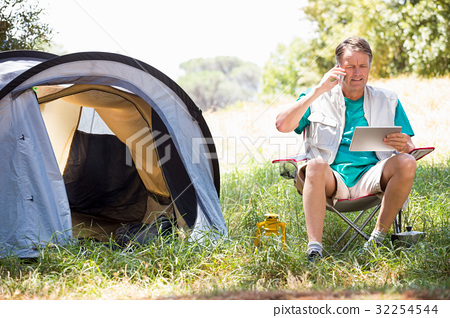phone: (330, 58, 346, 93)
talk: (317, 58, 375, 98)
